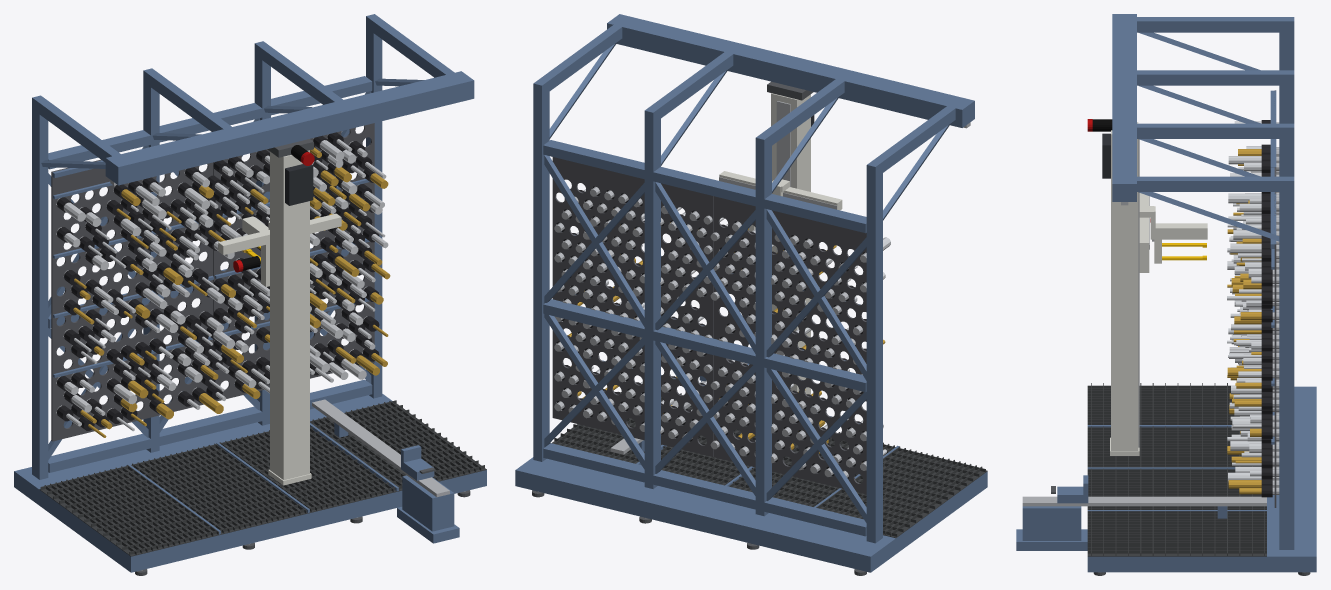
Rendered from tool_wall_magazine_2mod_twin.glb.
3 renders of one model, left to right at view 1: azimuth 30°, elevation 25°; view 2: azimuth 150°, elevation 25°; view 3: azimuth 270°, elevation 25°, orthographic. The views are drawn at different scales.
Visible parts, largest first — view 1: twm_frame__fms_blue, twm_base__grating, twm_tools__holder, twm_frame__anthracite_lt, twm_tools__tool_bright, mag_loader__struct_grey, twm_base__fms_blue, twm_tools__tool_gold, twm_load_station__fms_blue, twm_load_station__steel, mag_loader_z__struct_grey, mag_loader__anthracite (+2 smaller); view 2: twm_frame__fms_blue, twm_frame__anthracite_lt, twm_base__fms_blue, twm_tools__steel, twm_base__grating, twm_tools__holder, mag_loader__struct_grey, mag_loader__steel, mag_loader_z__struct_grey, twm_tools__tool_bright; view 3: twm_frame__fms_blue, twm_base__grating, twm_base__fms_blue, twm_tools__tool_bright, mag_loader__struct_grey, twm_tools__holder, twm_tools__tool_gold, twm_load_station__fms_blue, twm_load_station__steel, twm_tools__steel, mag_loader_b__struct_grey, twm_frame__anthracite_lt (+5 smaller).
Boxes of the visible parts, x1,y1,x2,y2 form: twm_frame__fms_blue: [32, 14, 474, 479]; twm_base__grating: [39, 400, 486, 556]; twm_tools__holder: [57, 132, 379, 430]; twm_frame__anthracite_lt: [51, 123, 374, 441]; twm_tools__tool_bright: [64, 139, 388, 431]; mag_loader__struct_grey: [268, 150, 311, 485]; twm_base__fms_blue: [14, 394, 486, 572]; twm_tools__tool_gold: [73, 147, 390, 437]; twm_load_station__fms_blue: [334, 422, 459, 543]; twm_load_station__steel: [312, 399, 449, 497]; mag_loader_z__struct_grey: [218, 213, 341, 286]; mag_loader__anthracite: [285, 164, 313, 205]; twm_frame__fms_blue: [533, 14, 974, 543]; twm_frame__anthracite_lt: [552, 157, 866, 494]; twm_base__fms_blue: [515, 444, 987, 572]; twm_tools__steel: [554, 186, 866, 477]; twm_base__grating: [550, 390, 987, 538]; twm_tools__holder: [556, 186, 866, 478]; mag_loader__struct_grey: [771, 93, 810, 394]; mag_loader__steel: [776, 101, 790, 411]; mag_loader_z__struct_grey: [719, 171, 842, 237]; twm_tools__tool_bright: [576, 189, 890, 456]; twm_frame__fms_blue: [1112, 14, 1294, 549]; twm_base__grating: [1087, 383, 1266, 556]; twm_base__fms_blue: [1087, 386, 1316, 572]; twm_tools__tool_bright: [1227, 121, 1261, 482]; mag_loader__struct_grey: [1110, 122, 1139, 455]; twm_tools__holder: [1261, 120, 1272, 497]; twm_tools__tool_gold: [1227, 149, 1261, 494]; twm_load_station__fms_blue: [1016, 506, 1227, 550]; twm_load_station__steel: [1022, 496, 1266, 506]; twm_tools__steel: [1272, 122, 1279, 494]; mag_loader_b__struct_grey: [1139, 206, 1207, 239]; twm_frame__anthracite_lt: [1274, 90, 1276, 507].
Bounding box in the file's own units: 3.25 × 3.54 × 2.43.
